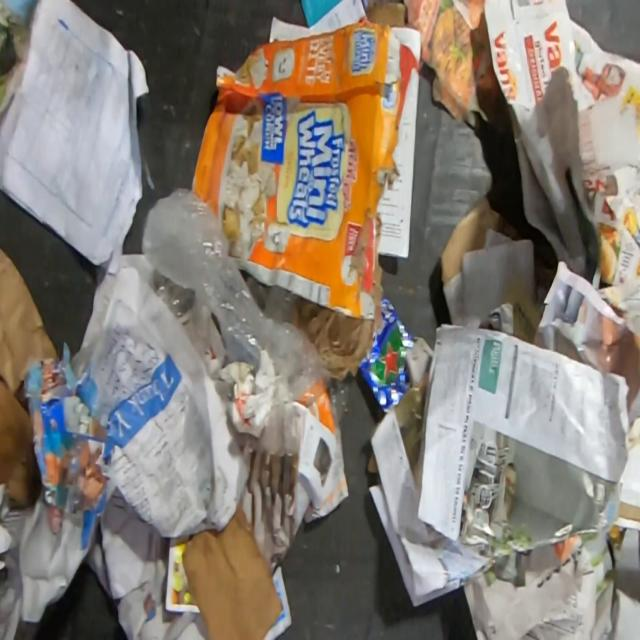cardboard: (189, 12, 424, 319), (182, 489, 283, 640), (24, 343, 110, 512), (438, 198, 525, 288), (0, 376, 40, 509)
metal: (358, 297, 416, 414)
rigid_plastic: (148, 269, 210, 350)
soft_plastic: (141, 186, 353, 424)
